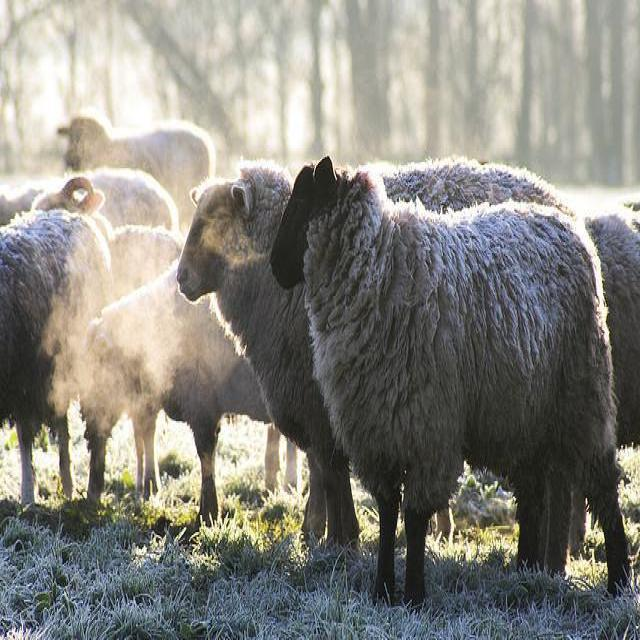Sheep: (268, 155, 636, 610), (360, 160, 617, 572), (178, 162, 364, 560), (73, 244, 297, 530), (1, 213, 114, 515), (34, 176, 184, 284), (53, 117, 213, 213), (0, 170, 183, 234), (597, 214, 639, 450)
